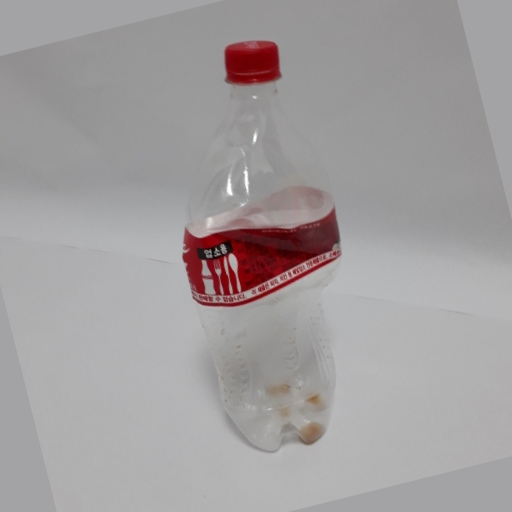Plastic_0: (181, 40, 350, 454)
